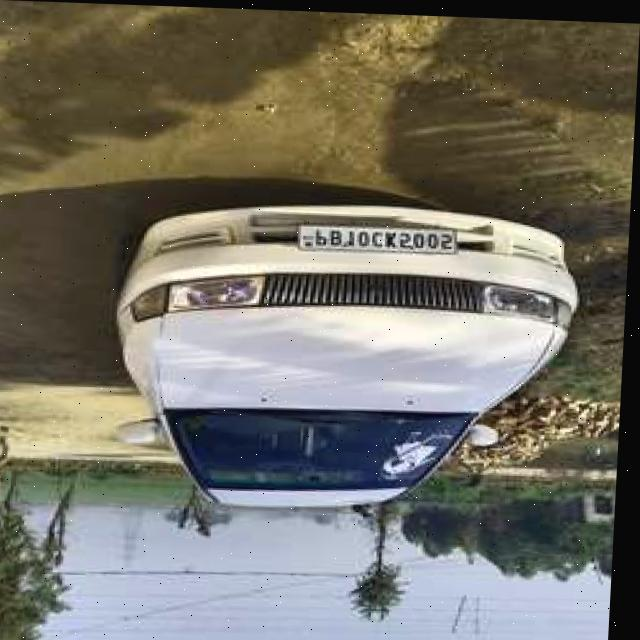plate: (296, 219, 462, 255)
